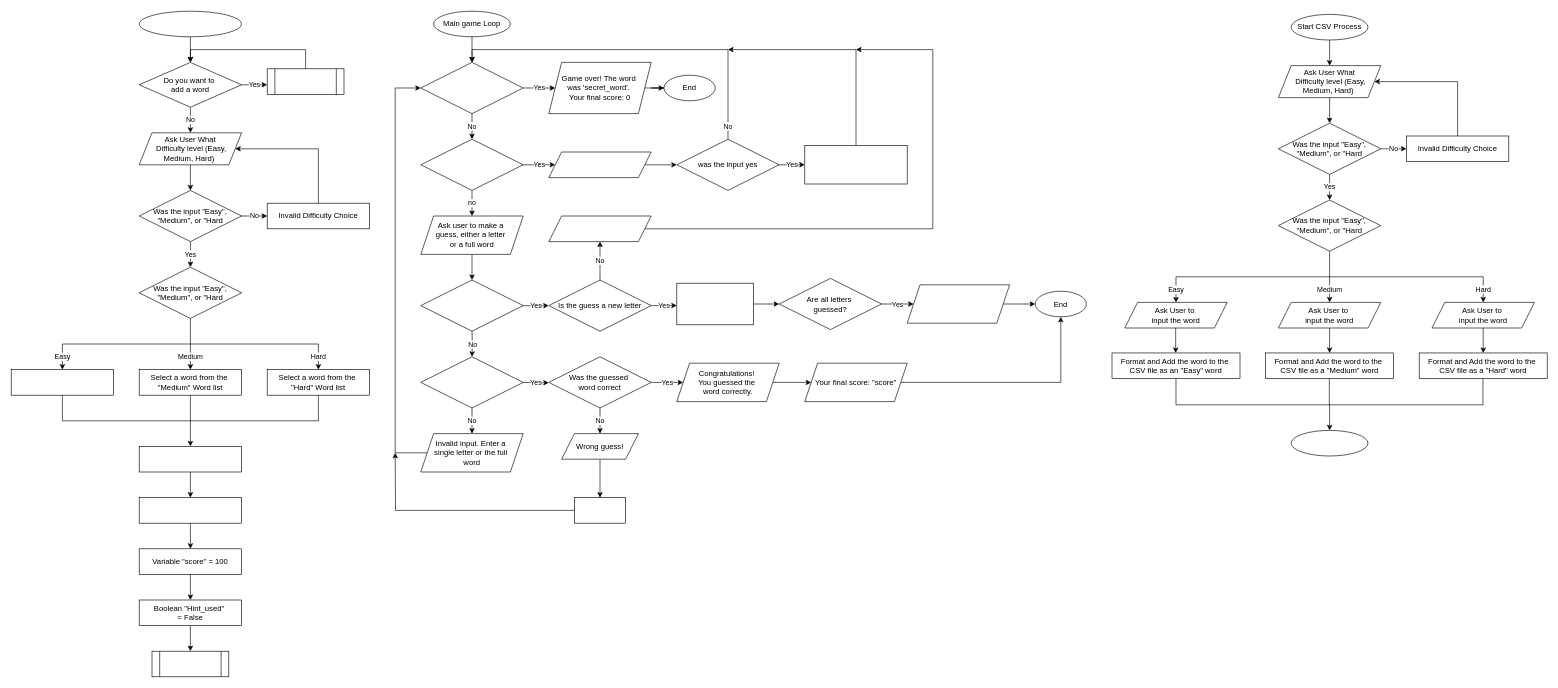
The diagram is 1558 pixels wide and 688 high, and some of its shapes have lost their labels. The centre of each missing label's shape, as x and y in pixels:
Add letter to "guessed_letters" score + 10: point (715, 304)
Ask user if they would like a hint: point (599, 164)
Attempts - 1 score - 10: point (600, 510)
Create an empty set called "guessed_letters": point (190, 459)
CSV Process: point (305, 81)
Finish Process: point (1329, 443)
Main Game Loop Process: point (190, 664)
Randomly add a letter from the 'secret_word' to "guessed_letters: point (855, 164)
Select a word from the "Easy" Word list: point (62, 382)
Start: point (190, 24)
Variable "attempts" = 6: point (190, 510)
Was the guess a letter: point (471, 305)
Was the guess a word: point (471, 382)
Well done! The word was '{secret_word}'. Your final score: {score}: point (958, 303)
While "attempts" < 3: point (471, 164)
While "attempts" > 0: point (471, 88)
You already guessed that letter: point (599, 228)
